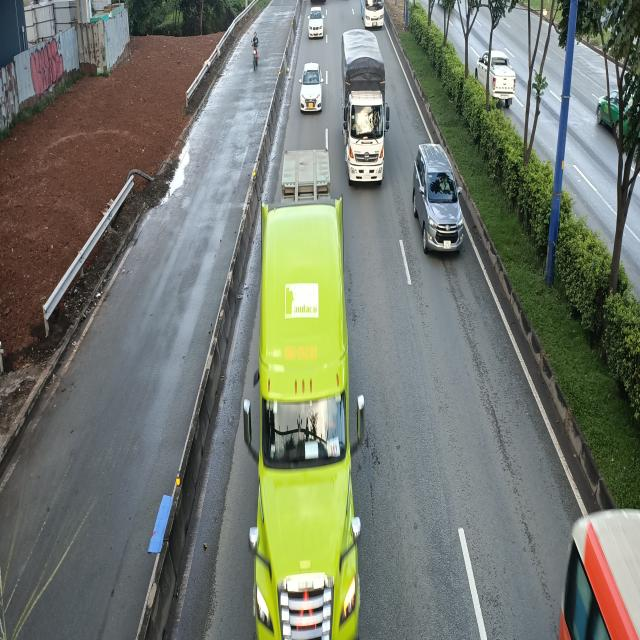car: (412, 145, 463, 254), (300, 62, 326, 114), (308, 7, 325, 39)
container: (243, 147, 365, 640)
truck: (340, 29, 390, 184)
